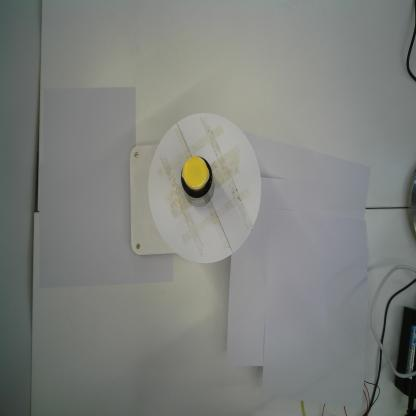Seasoner: (180, 153, 216, 209)
